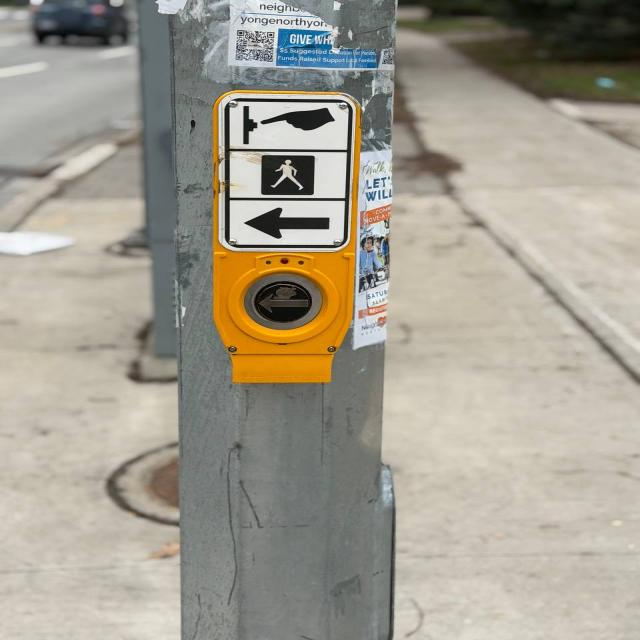Electrical Pole: (149, 2, 412, 640)
